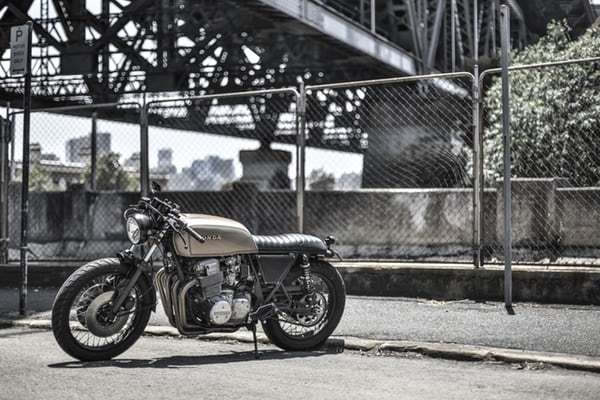15_label: (45, 166, 350, 362)
